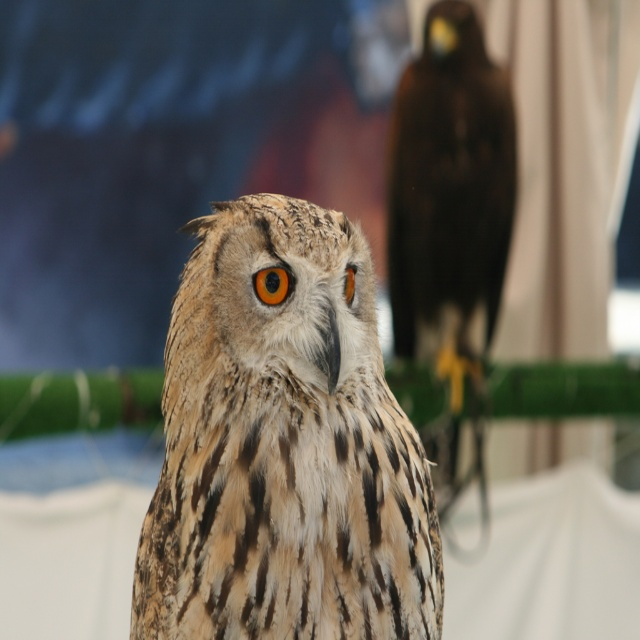Owl: (126, 193, 462, 638)
